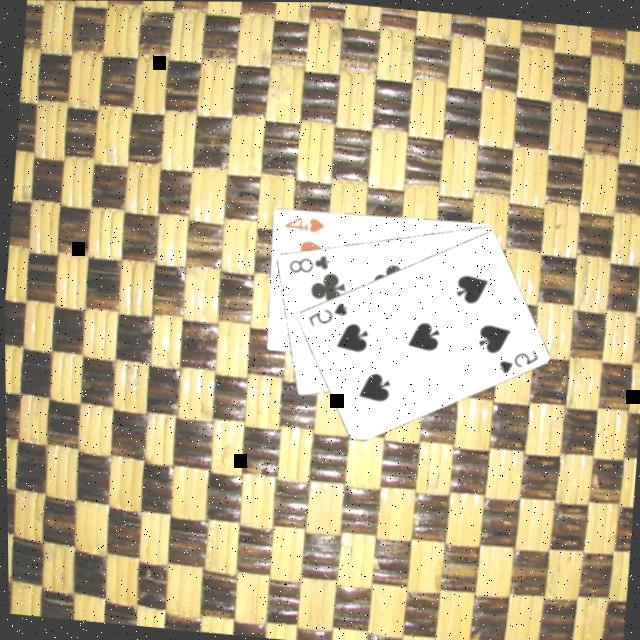4H: (278, 212, 325, 237)
5S: (491, 344, 539, 380), (301, 298, 348, 334)
8C: (282, 250, 331, 280)
